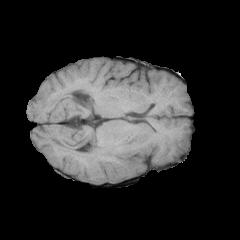glioma: (78, 143, 150, 183)
